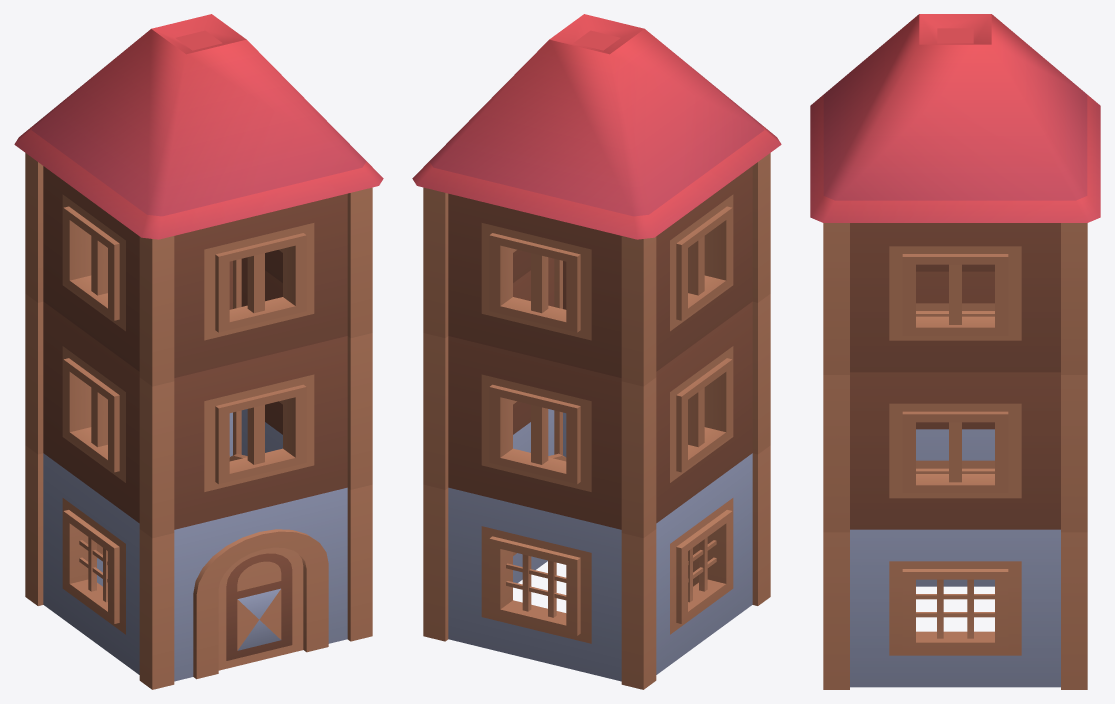
File: tower.glb
3 renders of one model, left to right at view 1: azimuth 30°, elevation 25°; view 2: azimuth 150°, elevation 25°; view 3: azimuth 270°, elevation 25°, orthographic. The views are drawn at different scales.
Visible parts, largest first — view 1: tower; view 2: tower; view 3: tower.
Boxes of the visible parts, x1,y1,x2,y2 form: tower: (14, 14, 383, 689); tower: (412, 14, 781, 689); tower: (810, 14, 1100, 689).
Bounding box in the file's own units: 4.18 × 9.6 × 4.18.
1 material, 1 textured.
